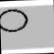no answer: (0, 7, 33, 42)
